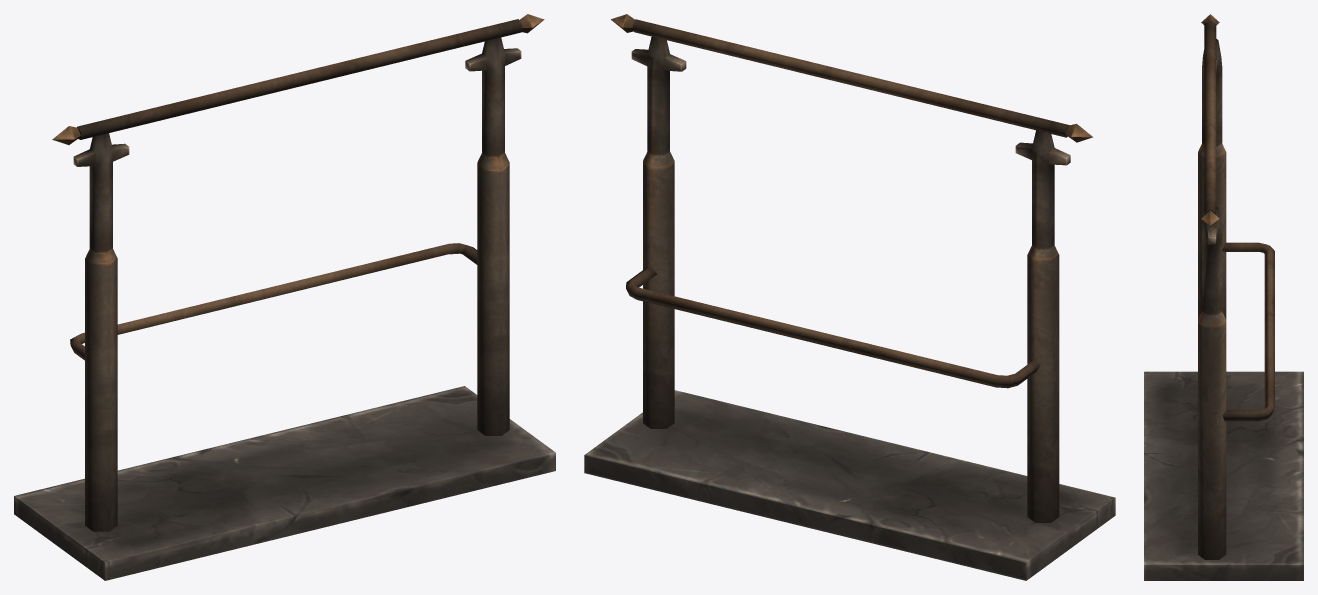
The model's file is Z_wuqijia.fbx.
The picture shows the model from 3 angles, left to right: view 1: azimuth 30°, elevation 25°; view 2: azimuth 150°, elevation 25°; view 3: azimuth 270°, elevation 25°; orthographic projection. The views are drawn at different scales.
Visible parts, largest first — view 1: Z_wuqijia; view 2: Z_wuqijia; view 3: Z_wuqijia.
Part boxes in pixels (x1,y1,x2,y2): Z_wuqijia: (14,14,555,580); Z_wuqijia: (584,14,1115,580); Z_wuqijia: (1144,14,1303,580).
Bounding box in the file's own units: 216 × 179 × 69.29.
